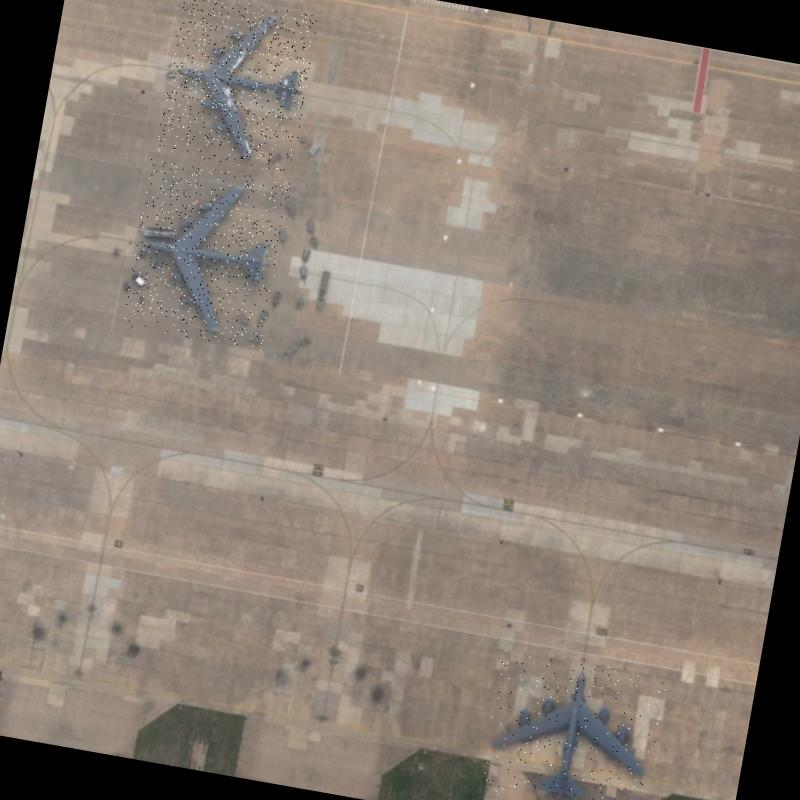A8: (121, 158, 292, 351), (478, 648, 668, 800), (155, 0, 319, 175)
